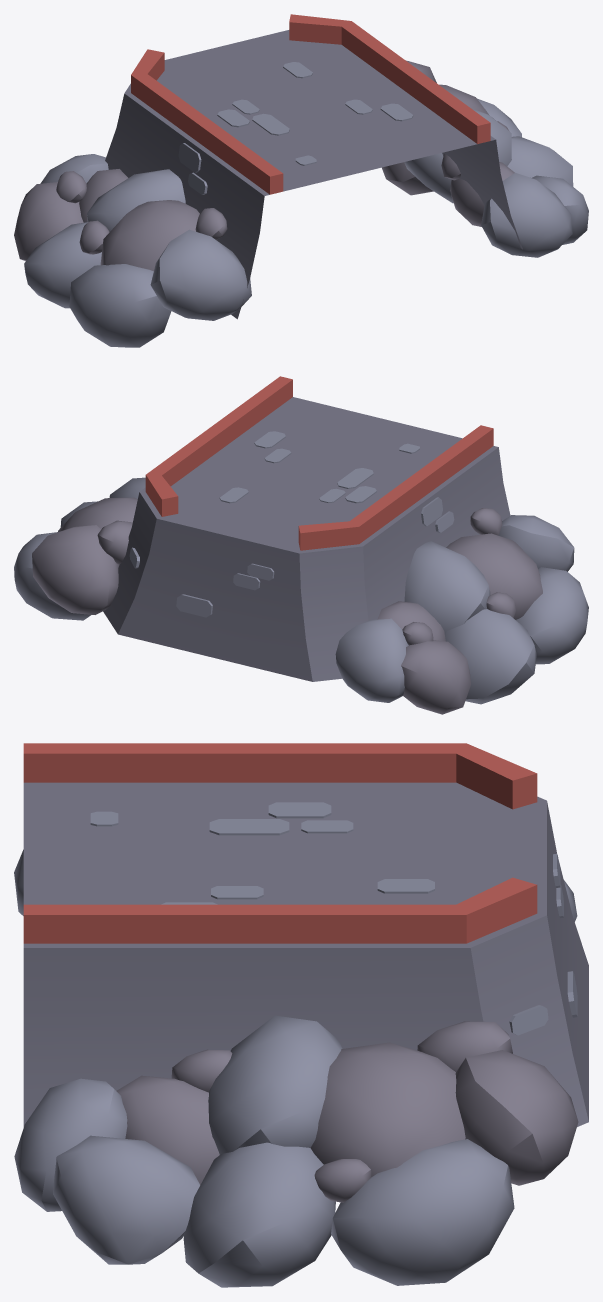
File: NATUURSTEENBOTENPIER.fbx
The picture shows the model from 3 angles, top to bottom: view 1: azimuth 30°, elevation 25°; view 2: azimuth 150°, elevation 25°; view 3: azimuth 270°, elevation 25°; orthographic projection. The views are drawn at different scales.
Parts seen in each view (by area): view 1: Cube.008; view 2: Cube.008; view 3: Cube.008.
Part boxes in pixels (bbox=[...]): Cube.008: bbox=[14, 14, 588, 347]; Cube.008: bbox=[14, 376, 588, 714]; Cube.008: bbox=[14, 743, 588, 1287].
Size of the model in its own units: 9.24 by 5.61 by 3.12.
